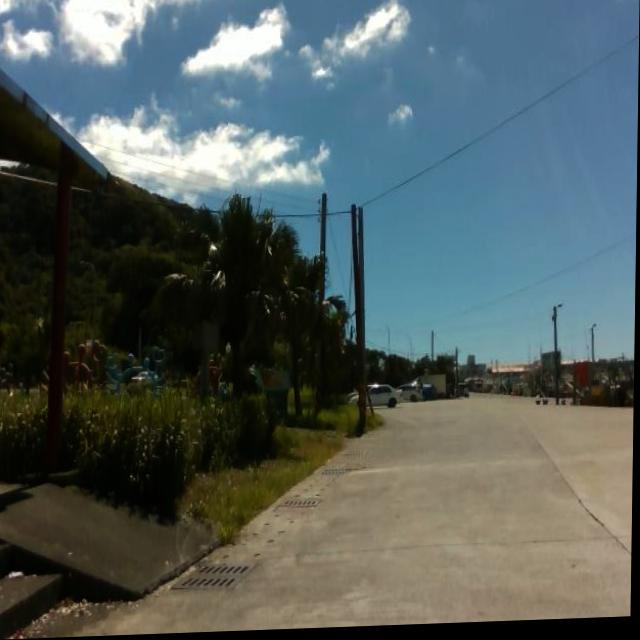pollute: (9, 570, 27, 580)
